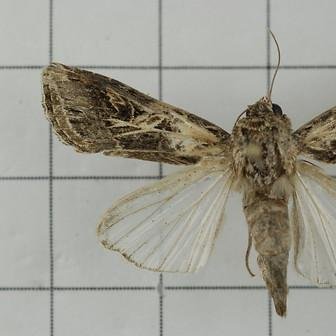Spodoptera litura: (40, 27, 336, 321)
